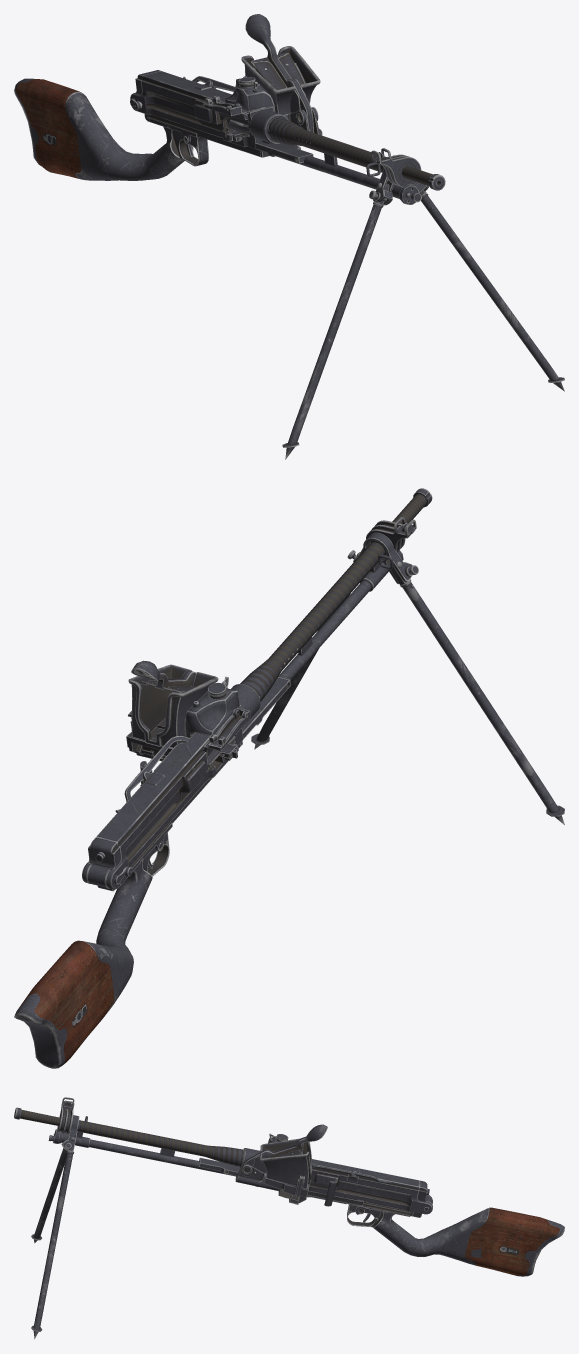
File: 大正十一式轻机枪.FBX
3 views of the same model, one above another, from view 1: azimuth 30°, elevation 25°; view 2: azimuth 150°, elevation 25°; view 3: azimuth 270°, elevation 25° (orthographic). The views are drawn at different scales.
Visible parts, largest first — view 1: 大正十一式轻机枪; view 2: 大正十一式轻机枪; view 3: 大正十一式轻机枪.
Part boxes in pixels (left/top/right/bottom): 大正十一式轻机枪: left=14, top=14, right=564, bottom=459; 大正十一式轻机枪: left=14, top=488, right=564, bottom=1068; 大正十一式轻机枪: left=14, top=1097, right=564, bottom=1339.
Bounding box in the file's own units: 0.4585 × 0.4089 × 1.1.
